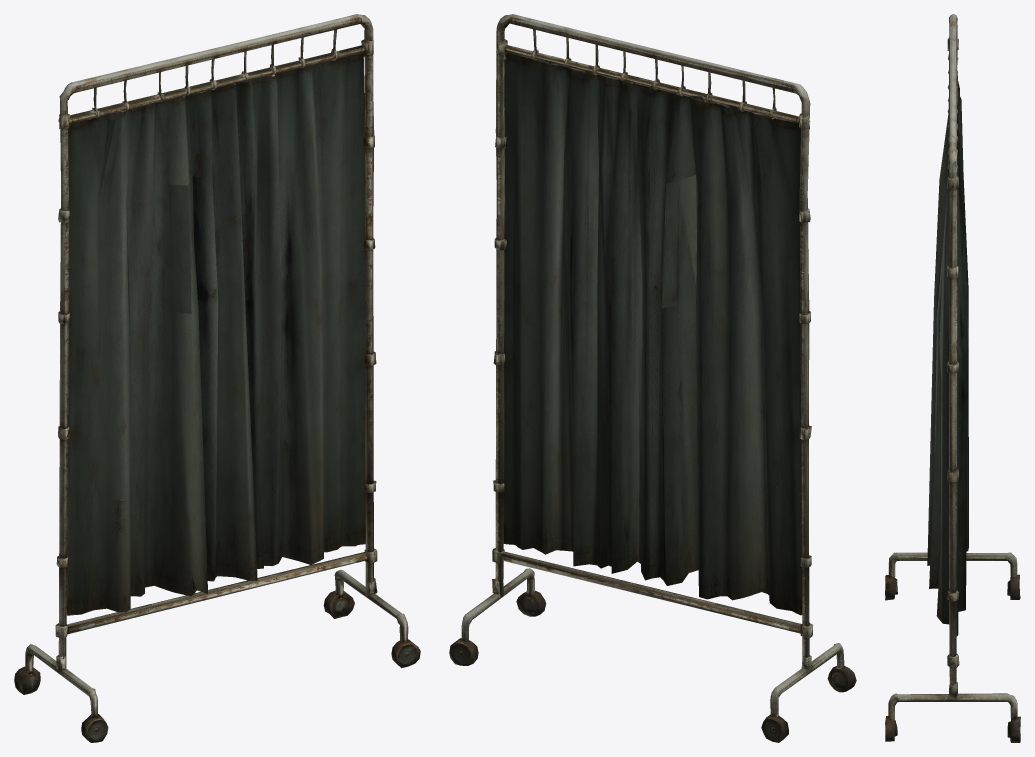
The model's file is screen.fbx.
3 renders of one model, left to right at view 1: azimuth 30°, elevation 25°; view 2: azimuth 150°, elevation 25°; view 3: azimuth 270°, elevation 25°, orthographic. The views are drawn at different scales.
Parts seen in each view (by area): view 1: mesh_node; view 2: mesh_node; view 3: mesh_node.
Boxes of the visible parts, left/top/right/bottom form: mesh_node: left=14, top=14, right=420, bottom=742; mesh_node: left=449, top=14, right=856, bottom=742; mesh_node: left=885, top=14, right=1020, bottom=742.
Size of the model in its own units: 56.05 by 100 by 20.95.
1 material, 1 textured.
